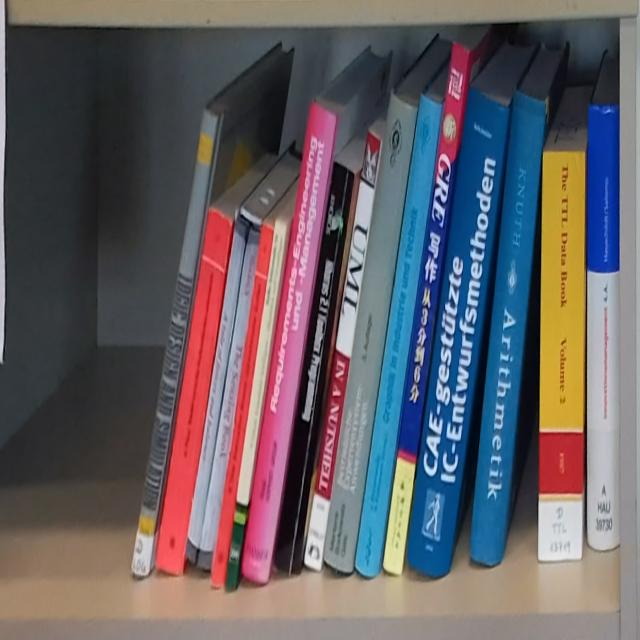Book Spine: (407, 84, 510, 579), (241, 98, 338, 585), (383, 41, 470, 575), (325, 89, 418, 573), (354, 91, 442, 580), (130, 107, 220, 576), (470, 86, 547, 568), (274, 161, 356, 577), (305, 130, 382, 571), (155, 209, 233, 576), (226, 220, 288, 591), (212, 222, 275, 586), (186, 214, 250, 567), (197, 225, 261, 571), (538, 152, 585, 561), (588, 104, 621, 551)
